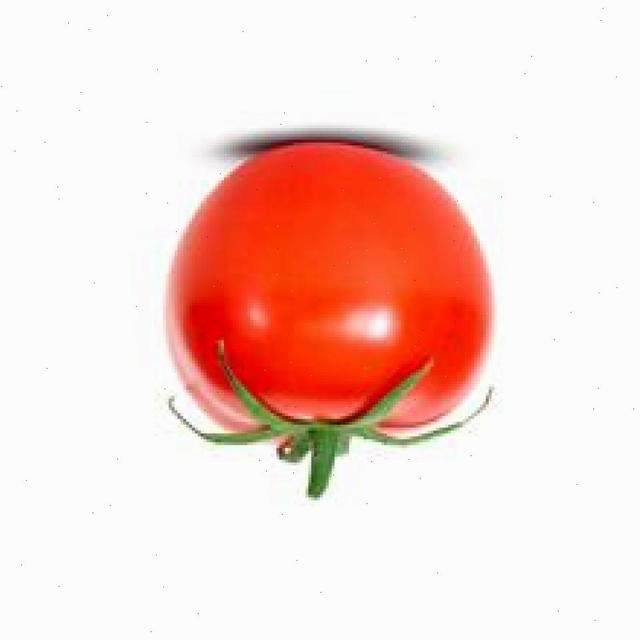Healthy Fruit: (99, 86, 341, 335)
